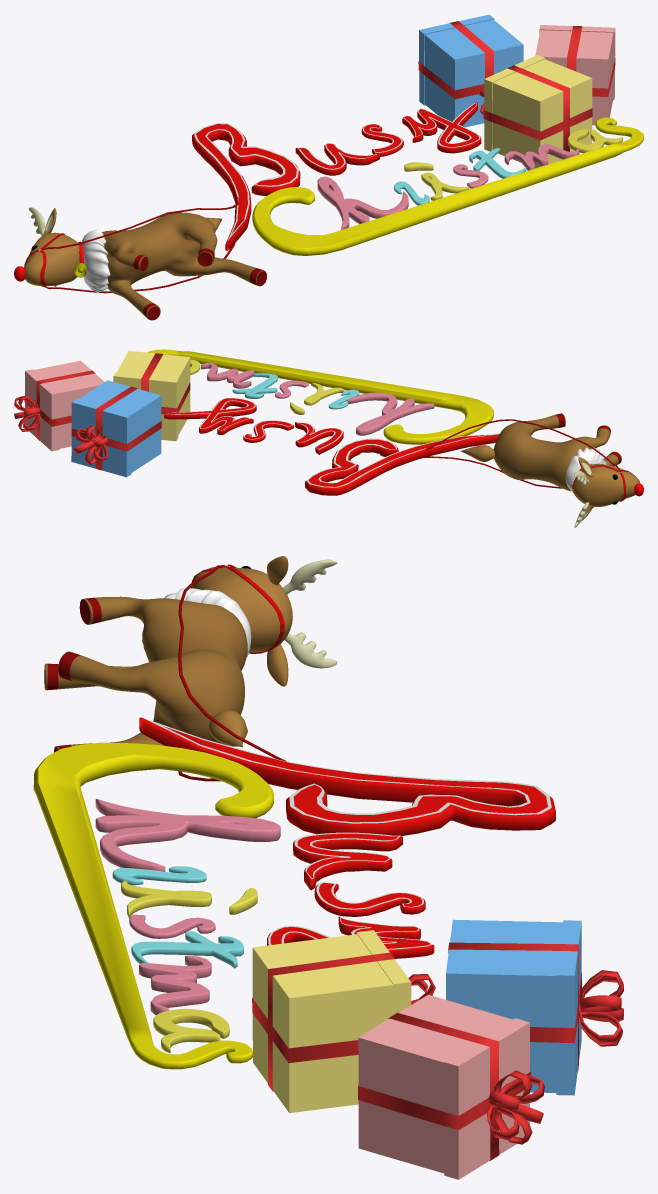
File: title10190156.fbx
3 views of the same model, one above another, from view 1: azimuth 30°, elevation 25°; view 2: azimuth 150°, elevation 25°; view 3: azimuth 270°, elevation 25° (orthographic). The views are drawn at different scales.
Parts seen in each view (by area): view 1: 平面, pCube18, Cube.001, Cube, Cube.002, 平面.001, 平面.002, 平面.003; view 2: 平面, pCube18, Cube, Cube.002, Cube.001, 平面.002, 平面.003, 平面.001; view 3: 平面, pCube18, Cube.002, Cube.001, Cube, 平面.003, 平面.002, 平面.001.
Part boxes in pixels (left/top/right/bottom): 平面: left=192, top=102, right=643, bottom=255; pCube18: left=14, top=196, right=266, bottom=320; Cube.001: left=484, top=55, right=592, bottom=168; Cube: left=419, top=14, right=523, bottom=127; Cube.002: left=535, top=25, right=615, bottom=125; 平面.001: left=479, top=65, right=592, bottom=151; 平面.002: left=418, top=21, right=493, bottom=99; 平面.003: left=567, top=26, right=615, bottom=96; 平面: left=147, top=349, right=499, bottom=495; pCube18: left=423, top=413, right=643, bottom=527; Cube: left=71, top=380, right=161, bottom=477; Cube.002: left=25, top=360, right=104, bottom=451; Cube.001: left=113, top=351, right=190, bottom=441; 平面.002: left=71, top=386, right=161, bottom=470; 平面.003: left=14, top=370, right=95, bottom=440; 平面.001: left=141, top=353, right=190, bottom=414; 平面: left=33, top=717, right=555, bottom=1069; pCube18: left=44, top=556, right=337, bottom=781; Cube.002: left=358, top=994, right=529, bottom=1179; Cube.001: left=252, top=930, right=411, bottom=1113; Cube: left=446, top=919, right=581, bottom=1095; 平面.003: left=358, top=1012, right=544, bottom=1160; 平面.002: left=448, top=942, right=623, bottom=1071; 平面.001: left=252, top=952, right=437, bottom=1091.
Bounding box in the file's own units: 3.71 × 0.4286 × 1.69.
